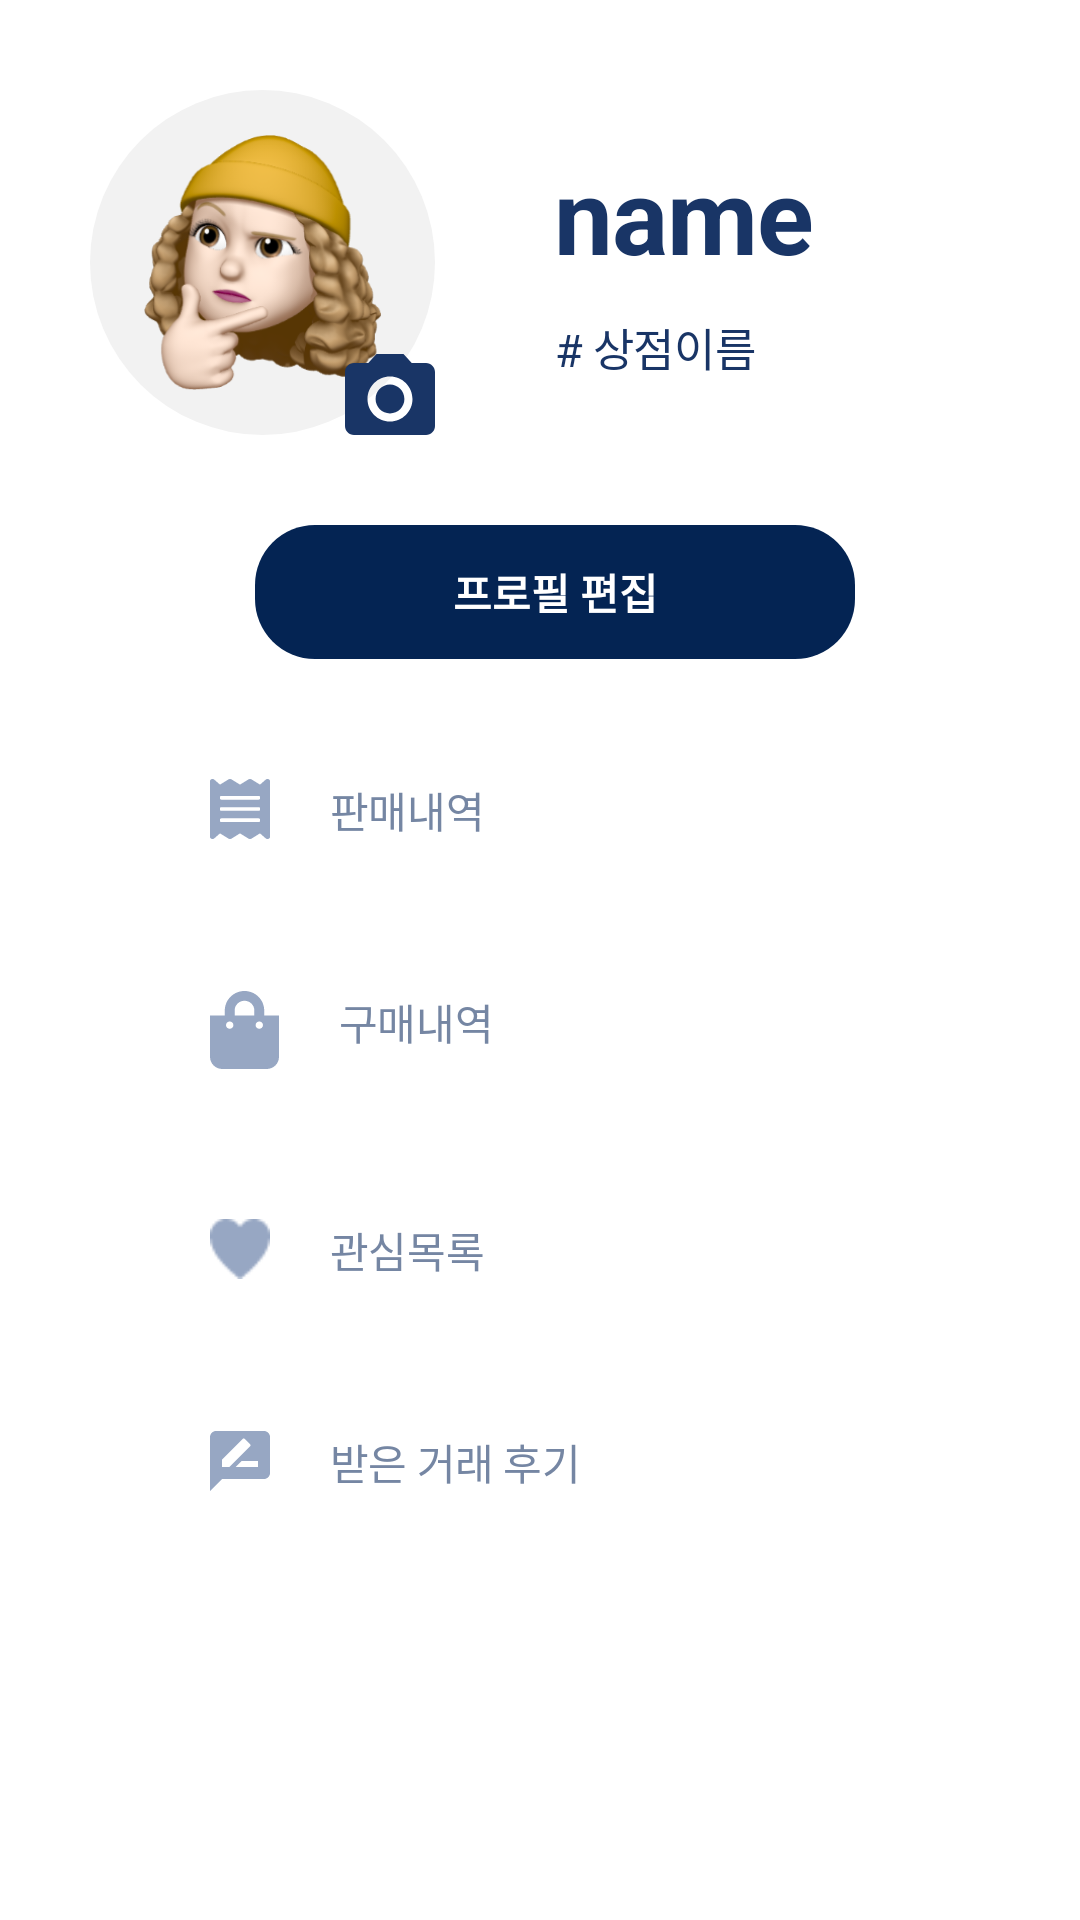

Screen size 1080 × 1920. Icon name, then its center in pixels as [x,y]:
awesome receipt: [240,809]
awesome shopping bag: [244,1030]
camera: [390,394]
ionic heart: [240,1249]
rate review: [240,1461]
